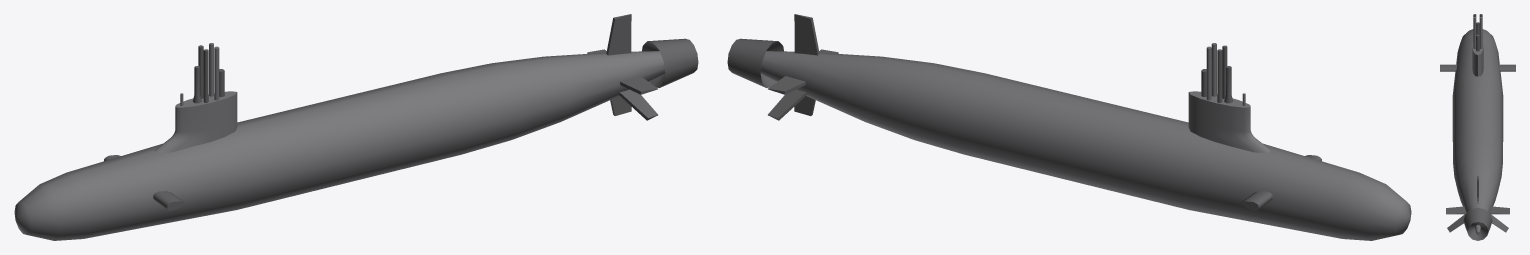
The model's file is Submarine.fbx.
The picture shows the model from 3 angles, left to right: view 1: azimuth 30°, elevation 25°; view 2: azimuth 150°, elevation 25°; view 3: azimuth 270°, elevation 25°; orthographic projection. The views are drawn at different scales.
Parts seen in each view (by area): view 1: Cube.004; view 2: Cube.004; view 3: Cube.004.
Boxes of the visible parts, x1,y1,x2,y2 form: Cube.004: [14, 14, 698, 240]; Cube.004: [727, 14, 1411, 240]; Cube.004: [1440, 14, 1515, 240].
Bounding box in the file's own units: 3069 × 723 × 496.
1 material, 1 textured.
